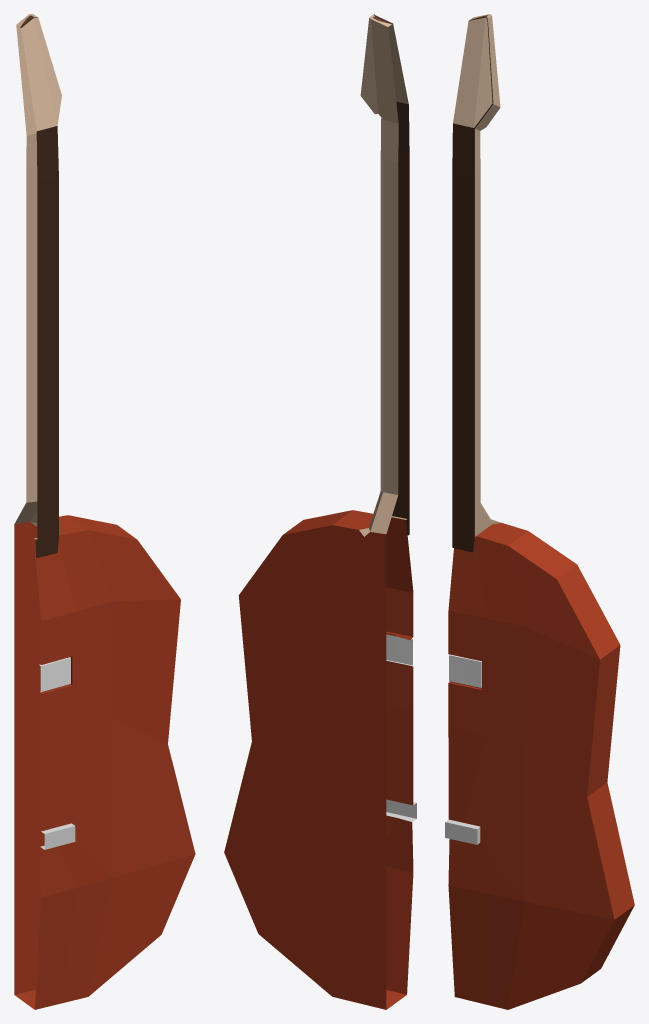
Rendered from guitar.gltf.
3 views of the same model, side by side, from view 1: azimuth 30°, elevation 25°; view 2: azimuth 150°, elevation 25°; view 3: azimuth 330°, elevation 25° (orthographic).
Parts seen in each view (by area): view 1: Cube; view 2: Cube; view 3: Cube.
Boxes of the visible parts, box(x1,y1,x2,y2) form: Cube: box(14, 14, 195, 1009); Cube: box(224, 14, 416, 1009); Cube: box(445, 14, 634, 1009).
Size of the model in its own units: 0.1501 by 0.872 by 0.049.
Materials: 1 (1 with a texture image).
